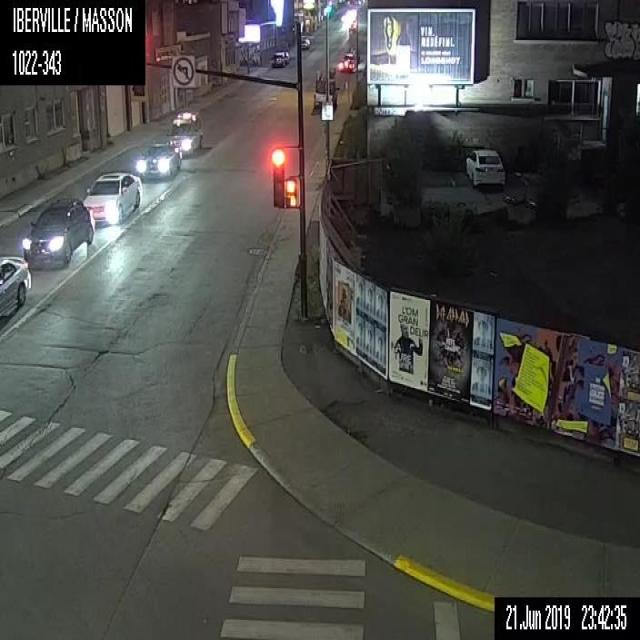vehicle: (21, 196, 93, 270), (81, 170, 142, 227), (0, 251, 31, 325), (133, 140, 182, 180), (463, 144, 506, 188), (165, 110, 203, 154), (311, 71, 340, 110), (336, 51, 356, 73), (269, 49, 287, 66), (300, 36, 311, 51), (326, 71, 326, 72)
